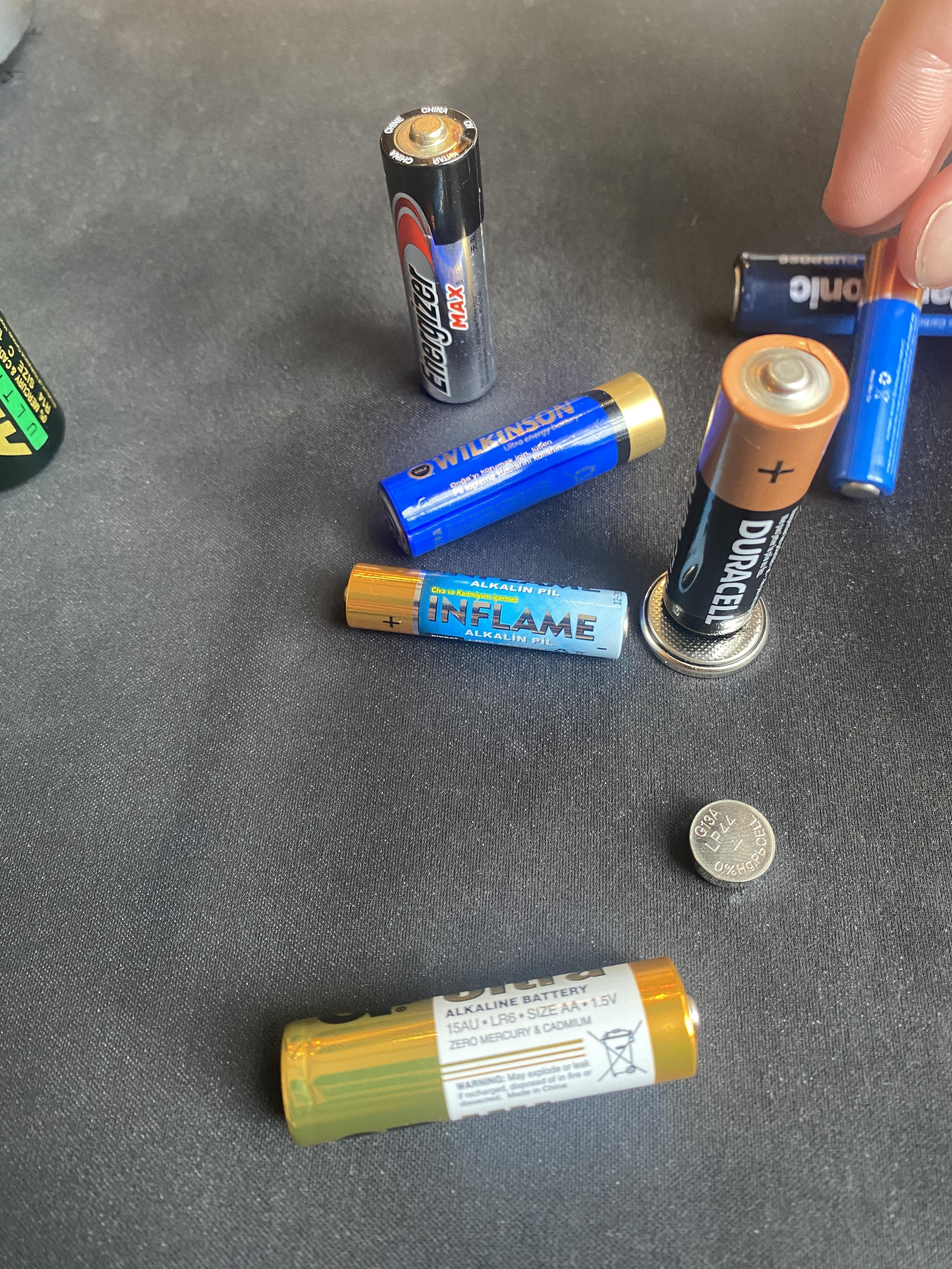AA: (276, 949, 707, 1152), (659, 329, 855, 643), (372, 366, 669, 562), (376, 102, 503, 407)
AAA: (340, 556, 632, 663), (827, 231, 924, 506)
COIN: (685, 798, 780, 893)
